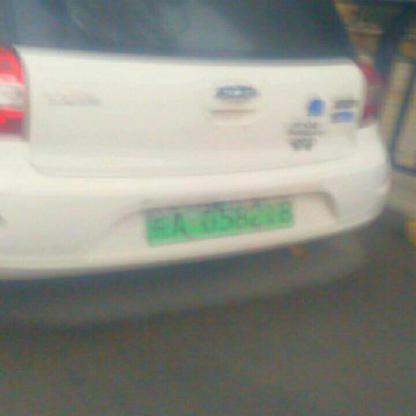lp: (143, 196, 294, 243)
